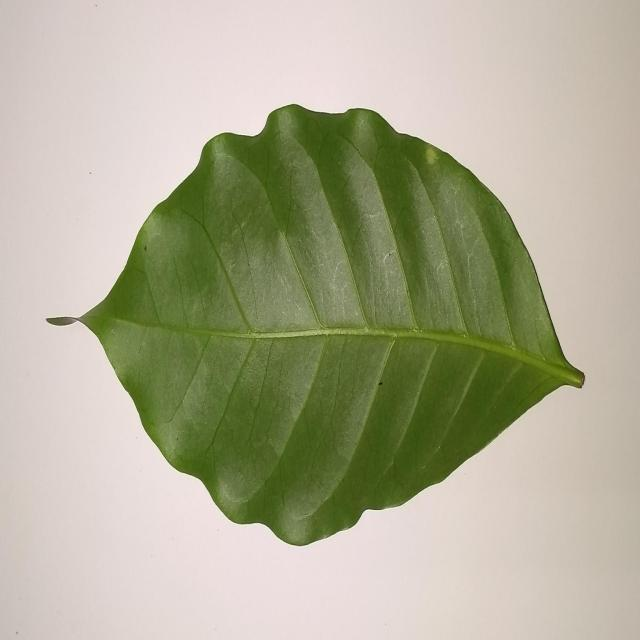nodisease: (47, 105, 584, 546)
